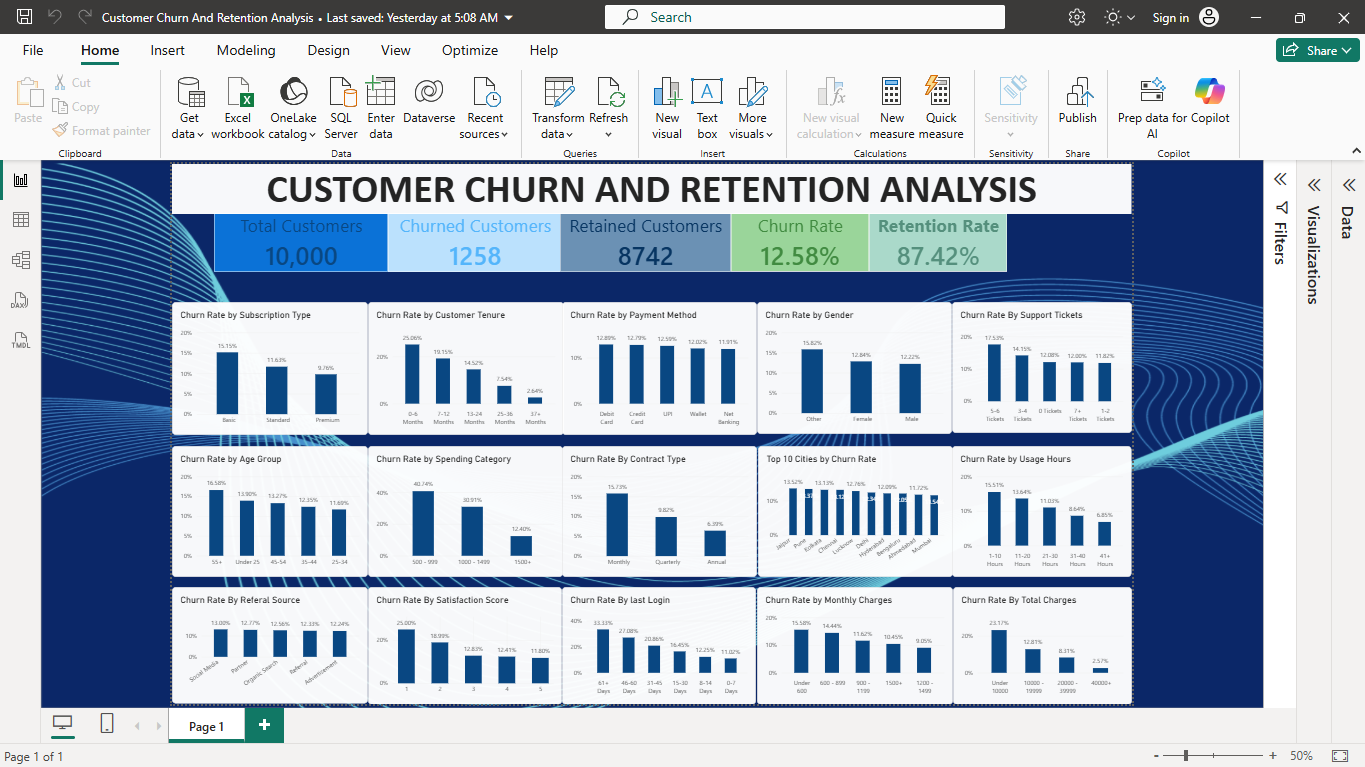

This screenshot's page, from the dashboard's own definition file:
{"tool":"powerbi","page":{"name":"Page 1","canvas":[1920,1080],"ordinal":0},"visuals":[{"type":"cardVisual","fields":{"Data":["customer_churn_analysis customer_churn_retention_dataset.Total Customers"]},"box":[84,98,348,118],"z":0},{"type":"cardVisual","fields":{"Data":["customer_churn_analysis customer_churn_retention_dataset.Churned Customers"]},"box":[432,98,348,118],"z":1},{"type":"cardVisual","fields":{"Data":["customer_churn_analysis customer_churn_retention_dataset.Retained Customers"]},"box":[776,98,342,118],"z":2},{"type":"cardVisual","fields":{"Data":["customer_churn_analysis customer_churn_retention_dataset.Churn Rate"]},"box":[1117.5,98.4,276.2,117.5],"z":3},{"type":"cardVisual","fields":{"Data":["customer_churn_analysis customer_churn_retention_dataset.Retention Rate"]},"box":[1393.7,98.4,276.2,117.5],"z":4},{"type":"textbox","box":[0,0,1919.2,100],"z":5},{"type":"clusteredColumnChart","title":"Churn Rate by Subscription Type","fields":{"Category":["customer_churn_analysis customer_churn_retention_dataset.Subscription_Type"],"Y":["customer_churn_analysis customer_churn_retention_dataset.Churn Rate"]},"box":[0,275,392.3,266.3],"z":6},{"type":"clusteredColumnChart","title":"Churn Rate by Customer Tenure","fields":{"Category":["customer_churn_analysis customer_churn_retention_dataset.Tenure Group"],"Y":["customer_churn_analysis customer_churn_retention_dataset.Churn Rate"]},"box":[392.3,275,392.3,266.3],"z":7},{"type":"clusteredColumnChart","title":"Churn Rate by Payment Method","fields":{"Category":["customer_churn_analysis customer_churn_retention_dataset.Payment_Method"],"Y":["customer_churn_analysis customer_churn_retention_dataset.Churn Rate"]},"box":[780.8,275,390.2,266.3],"z":8},{"type":"clusteredColumnChart","title":"Churn Rate by Gender","fields":{"Category":["customer_churn_analysis customer_churn_retention_dataset.Gender"],"Y":["customer_churn_analysis customer_churn_retention_dataset.Churn Rate"]},"box":[1169.2,275,390.2,264.3],"z":9},{"type":"clusteredColumnChart","title":"Churn Rate by Age Group","fields":{"Category":["customer_churn_analysis customer_churn_retention_dataset.Age Group"],"Y":["customer_churn_analysis customer_churn_retention_dataset.Churn Rate"]},"box":[0,563.5,392.3,261.5],"z":10},{"type":"clusteredColumnChart","title":"Churn Rate by  Spending Category","fields":{"Category":["customer_churn_analysis customer_churn_retention_dataset.Spending Category"],"Y":["customer_churn_analysis customer_churn_retention_dataset.Churn Rate"]},"box":[392.3,563.5,390.4,261.5],"z":11},{"type":"clusteredColumnChart","title":"Churn Rate By Contract Type","fields":{"Category":["customer_churn_analysis customer_churn_retention_dataset.Contract_Type"],"Y":["customer_churn_analysis customer_churn_retention_dataset.Churn Rate"]},"box":[780.8,563.5,390.2,262.2],"z":12},{"type":"clusteredColumnChart","title":"Top 10 Cities by Churn Rate","fields":{"Category":["customer_churn_analysis customer_churn_retention_dataset.City"],"Y":["customer_churn_analysis customer_churn_retention_dataset.Churn Rate"]},"box":[1171.2,563.5,390.2,262.2],"z":13},{"type":"clusteredColumnChart","title":"Churn Rate By Referal Source","fields":{"Category":["customer_churn_analysis customer_churn_retention_dataset.Referral_Source"],"Y":["customer_churn_analysis customer_churn_retention_dataset.Churn Rate"]},"box":[0,846.2,392.3,232.7],"z":14},{"type":"clusteredColumnChart","title":"Churn Rate By Satisfaction Score","fields":{"Category":["customer_churn_analysis customer_churn_retention_dataset.Satisfaction Group"],"Y":["customer_churn_analysis customer_churn_retention_dataset.Churn Rate"]},"box":[392.3,846.2,388.5,234.6],"z":15},{"type":"clusteredColumnChart","title":"Churn Rate By last Login","fields":{"Category":["customer_churn_analysis customer_churn_retention_dataset.Last Login Group"],"Y":["customer_churn_analysis customer_churn_retention_dataset.Churn Rate"]},"box":[780.8,846.2,388.5,234.6],"z":16},{"type":"clusteredColumnChart","title":"Churn Rate by Monthly Charges","fields":{"Category":["customer_churn_analysis customer_churn_retention_dataset.Monthly Charges Group"],"Y":["customer_churn_analysis customer_churn_retention_dataset.Churn Rate"]},"box":[1169.2,846.2,392.3,234.6],"z":17},{"type":"clusteredColumnChart","title":"Churn Rate By Support Tickets","fields":{"Category":["customer_churn_analysis customer_churn_retention_dataset.Support Tickets Group"],"Y":["customer_churn_analysis customer_churn_retention_dataset.Churn Rate"]},"box":[1559.6,276.9,359.6,261.5],"z":18},{"type":"clusteredColumnChart","title":"Churn Rate by Usage Hours","fields":{"Category":["customer_churn_analysis customer_churn_retention_dataset.Usage Hours Group"],"Y":["customer_churn_analysis customer_churn_retention_dataset.Churn Rate"]},"box":[1559.6,563.5,359.2,262.2],"z":19},{"type":"clusteredColumnChart","title":"Churn Rate By Total Charges","fields":{"Category":["customer_churn_analysis customer_churn_retention_dataset.Total Charges Group"],"Y":["customer_churn_analysis customer_churn_retention_dataset.Churn Rate"]},"box":[1561.5,846.2,357.7,234.6],"z":20}]}

Visuals, with their boxes on the page's 1920x1080 design canvas (x1, y1, x2, y2). These are canvas units, not pixel positions in the 1365x767 screenshot, which may show the page scaled, cropped or inside an application window:
cardVisual - customer_churn_analysis customer_churn_retention_dataset.Total Customers: (left=84, top=98, right=432, bottom=216)
cardVisual - customer_churn_analysis customer_churn_retention_dataset.Churned Customers: (left=432, top=98, right=780, bottom=216)
cardVisual - customer_churn_analysis customer_churn_retention_dataset.Retained Customers: (left=776, top=98, right=1118, bottom=216)
cardVisual - customer_churn_analysis customer_churn_retention_dataset.Churn Rate: (left=1118, top=98, right=1394, bottom=216)
cardVisual - customer_churn_analysis customer_churn_retention_dataset.Retention Rate: (left=1394, top=98, right=1670, bottom=216)
textbox: (left=0, top=0, right=1919, bottom=100)
"Churn Rate by Subscription Type" clusteredColumnChart: (left=0, top=275, right=392, bottom=541)
"Churn Rate by Customer Tenure" clusteredColumnChart: (left=392, top=275, right=785, bottom=541)
"Churn Rate by Payment Method" clusteredColumnChart: (left=781, top=275, right=1171, bottom=541)
"Churn Rate by Gender" clusteredColumnChart: (left=1169, top=275, right=1559, bottom=539)
"Churn Rate by Age Group" clusteredColumnChart: (left=0, top=564, right=392, bottom=825)
"Churn Rate by  Spending Category" clusteredColumnChart: (left=392, top=564, right=783, bottom=825)
"Churn Rate By Contract Type" clusteredColumnChart: (left=781, top=564, right=1171, bottom=826)
"Top 10 Cities by Churn Rate" clusteredColumnChart: (left=1171, top=564, right=1561, bottom=826)
"Churn Rate By Referal Source" clusteredColumnChart: (left=0, top=846, right=392, bottom=1079)
"Churn Rate By Satisfaction Score" clusteredColumnChart: (left=392, top=846, right=781, bottom=1081)
"Churn Rate By last Login" clusteredColumnChart: (left=781, top=846, right=1169, bottom=1081)
"Churn Rate by Monthly Charges" clusteredColumnChart: (left=1169, top=846, right=1562, bottom=1081)
"Churn Rate By Support Tickets" clusteredColumnChart: (left=1560, top=277, right=1919, bottom=538)
"Churn Rate by Usage Hours" clusteredColumnChart: (left=1560, top=564, right=1919, bottom=826)
"Churn Rate By Total Charges" clusteredColumnChart: (left=1562, top=846, right=1919, bottom=1081)
